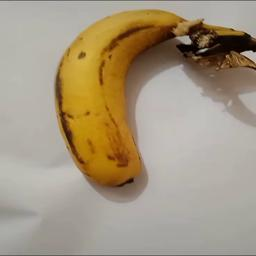Banana Semifresh: (52, 5, 256, 184)
